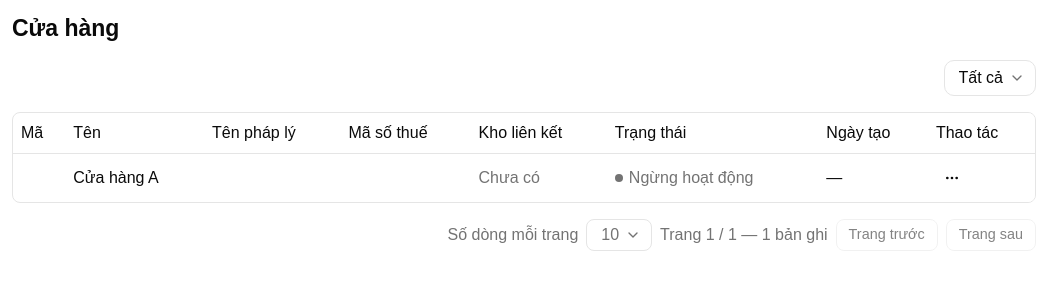
Test: StoresPage — gác theo authority (cờ bật) › chỉ STORE_UPDATE → có Sửa, KHÔNG có Gán kho (thiếu WAREHOUSE_UPDATE)
Click the button named "Thao tác với Cửa hàng A" at (952,178), box [936,162,968,194]
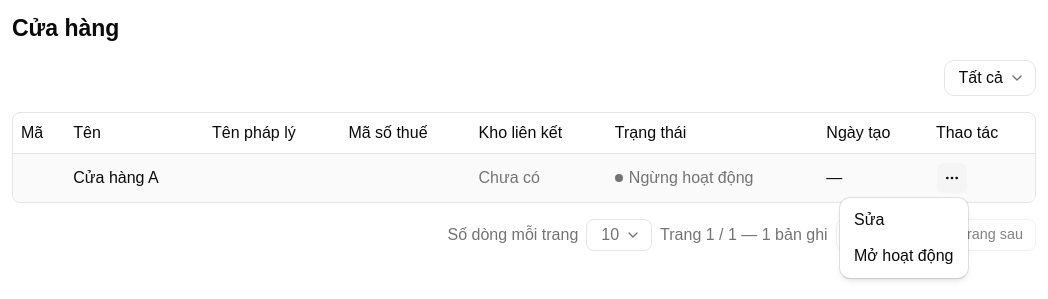
Result: the menu item "Sửa" is shown at [854,211,884,228]
